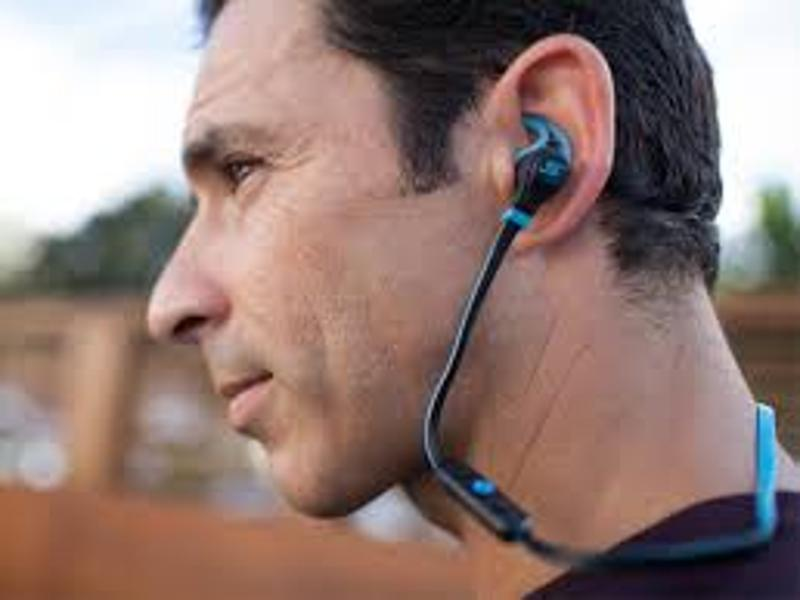headphone: (502, 114, 573, 235)
